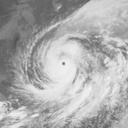cyclone: (16, 20, 97, 103)
